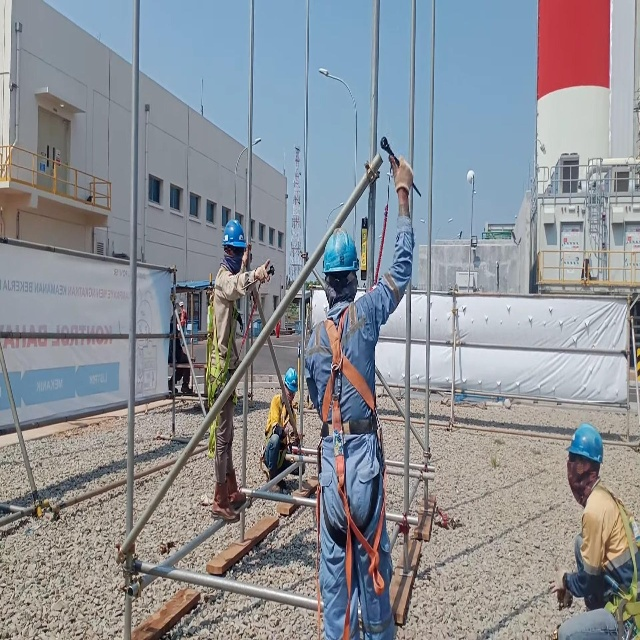Arnes_seguridad: (309, 305, 391, 640), (600, 477, 640, 640), (206, 284, 240, 454)
